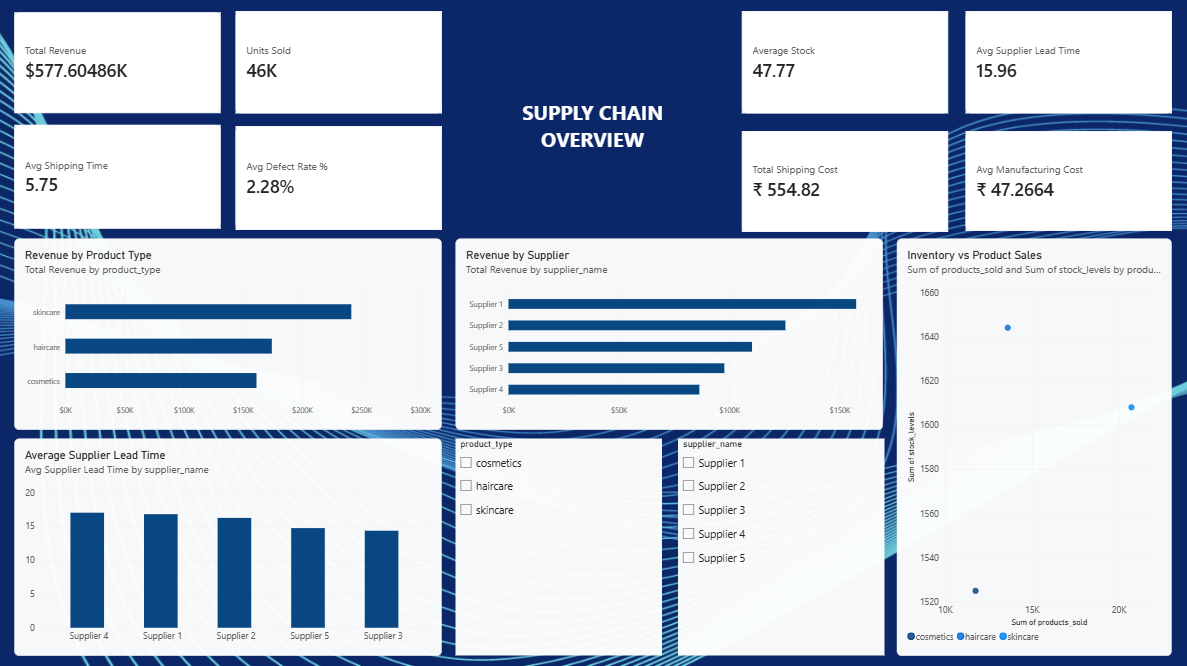

This screenshot's page, from the dashboard's own definition file:
{"tool":"powerbi","page":{"name":"Supply Chain Overview","canvas":[1920,1080],"ordinal":0},"visuals":[{"type":"cardVisual","fields":{"Data":["supply_chain_analytics supply_chain_data.Units Sold"]},"box":[387.1,24.3,330,164.3],"z":0},{"type":"cardVisual","fields":{"Data":["supply_chain_analytics supply_chain_data.Average Stock"]},"box":[1198.3,23.3,330,164.3],"z":1000},{"type":"cardVisual","fields":{"Data":["supply_chain_analytics supply_chain_data.Avg Supplier Lead Time"]},"box":[1556.7,23.3,330,164.3],"z":2000},{"type":"cardVisual","fields":{"Data":["supply_chain_analytics supply_chain_data.Avg Shipping Time"]},"box":[34,206,330,166],"z":3000},{"type":"cardVisual","fields":{"Data":["supply_chain_analytics supply_chain_data.Avg Defect Rate %"]},"box":[388,208,330,166],"z":4000},{"type":"cardVisual","fields":{"Data":["supply_chain_analytics supply_chain_data.Total Shipping Cost"]},"box":[1198.3,215,330,161.7],"z":5000},{"type":"cardVisual","fields":{"Data":["supply_chain_analytics supply_chain_data.Avg Manufacturing Cost"]},"box":[1556.7,215,330,160],"z":6000},{"type":"clusteredBarChart","title":"Revenue by Product Type","fields":{"Category":["supply_chain_analytics supply_chain_data.product_type"],"Y":["supply_chain_analytics supply_chain_data.Total Revenue"]},"box":[34,388,684,306],"z":7000},{"type":"clusteredBarChart","title":"Revenue by Supplier","fields":{"Category":["supply_chain_analytics supply_chain_data.supplier_name"],"Y":["supply_chain_analytics supply_chain_data.Total Revenue"]},"box":[740,388,684,306],"z":8000},{"type":"scatterChart","title":"Inventory vs Product Sales","fields":{"Series":["supply_chain_analytics supply_chain_data.product_type"],"X":["Sum(supply_chain_analytics supply_chain_data.products_sold)"],"Y":["Sum(supply_chain_analytics supply_chain_data.stock_levels)"]},"box":[1446.7,388.3,440,668],"z":9000},{"type":"clusteredColumnChart","title":"Average Supplier Lead Time","fields":{"Category":["supply_chain_analytics supply_chain_data.supplier_name"],"Y":["supply_chain_analytics supply_chain_data.Avg Supplier Lead Time"]},"box":[34,708,684,348],"z":10000},{"type":"cardVisual","fields":{"Data":["supply_chain_analytics supply_chain_data.Total Revenue"]},"box":[34.6,26.9,330.8,161.5],"z":11000},{"type":"slicer","fields":{"Values":["supply_chain_analytics supply_chain_data.product_type"]},"box":[740,707.5,330,347.5],"z":11001},{"type":"slicer","fields":{"Values":["supply_chain_analytics supply_chain_data.supplier_name"]},"box":[1095,707.5,330,347.5],"z":11002},{"type":"textbox","box":[806.7,163.3,306.7,101.7],"z":11003}]}

Visuals, with their boxes in screenshot pixels (x1, y1, x2, y2), scaled from the page's 1920x1080 canvas onto the 1187x666 screenshot:
cardVisual - supply_chain_analytics supply_chain_data.Units Sold: <region>239, 15, 443, 116</region>
cardVisual - supply_chain_analytics supply_chain_data.Average Stock: <region>741, 14, 945, 116</region>
cardVisual - supply_chain_analytics supply_chain_data.Avg Supplier Lead Time: <region>962, 14, 1166, 116</region>
cardVisual - supply_chain_analytics supply_chain_data.Avg Shipping Time: <region>21, 127, 225, 229</region>
cardVisual - supply_chain_analytics supply_chain_data.Avg Defect Rate %: <region>240, 128, 444, 231</region>
cardVisual - supply_chain_analytics supply_chain_data.Total Shipping Cost: <region>741, 133, 945, 232</region>
cardVisual - supply_chain_analytics supply_chain_data.Avg Manufacturing Cost: <region>962, 133, 1166, 231</region>
"Revenue by Product Type" clusteredBarChart: <region>21, 239, 444, 428</region>
"Revenue by Supplier" clusteredBarChart: <region>457, 239, 880, 428</region>
"Inventory vs Product Sales" scatterChart: <region>894, 239, 1166, 651</region>
"Average Supplier Lead Time" clusteredColumnChart: <region>21, 437, 444, 651</region>
cardVisual - supply_chain_analytics supply_chain_data.Total Revenue: <region>21, 17, 226, 116</region>
slicer - supply_chain_analytics supply_chain_data.product_type: <region>457, 436, 662, 651</region>
slicer - supply_chain_analytics supply_chain_data.supplier_name: <region>677, 436, 881, 651</region>
textbox: <region>499, 101, 688, 163</region>
